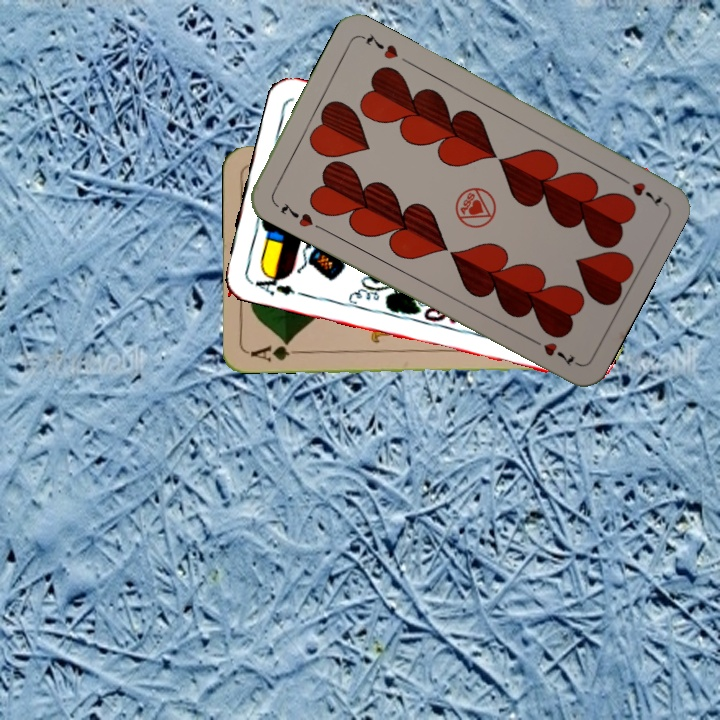EA: (247, 268, 298, 299)
GA: (248, 338, 307, 365)
H7: (613, 171, 666, 209), (276, 198, 316, 230)
